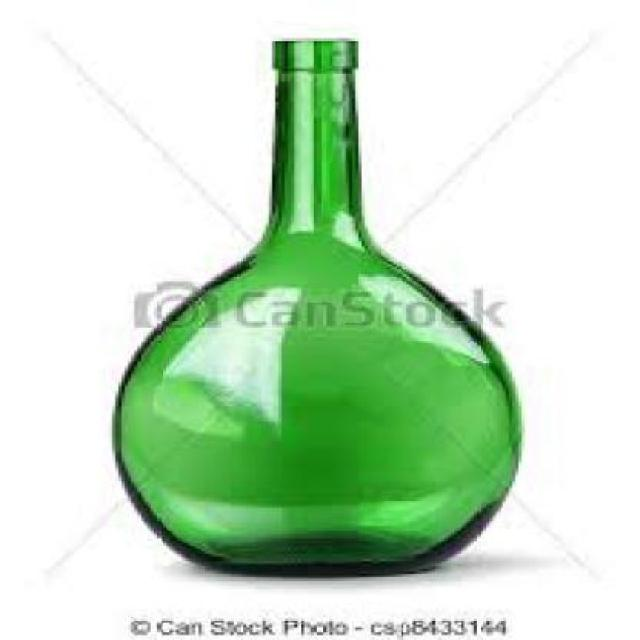kaca: (110, 38, 518, 574)
